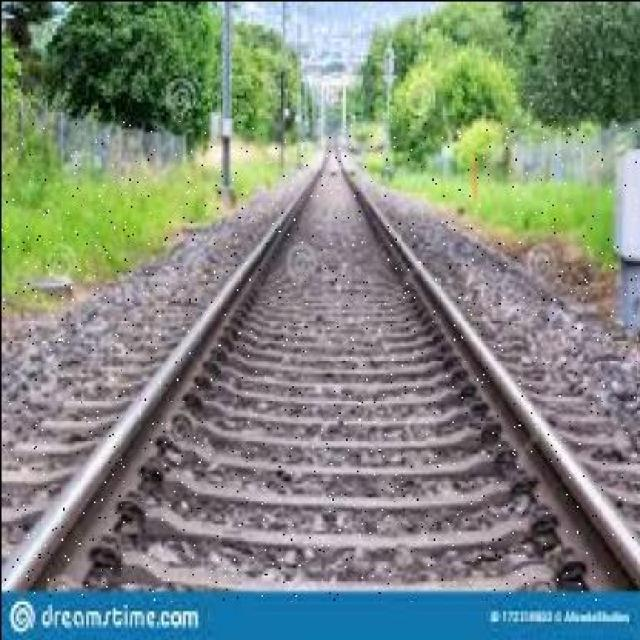rail: (1, 120, 636, 601)
